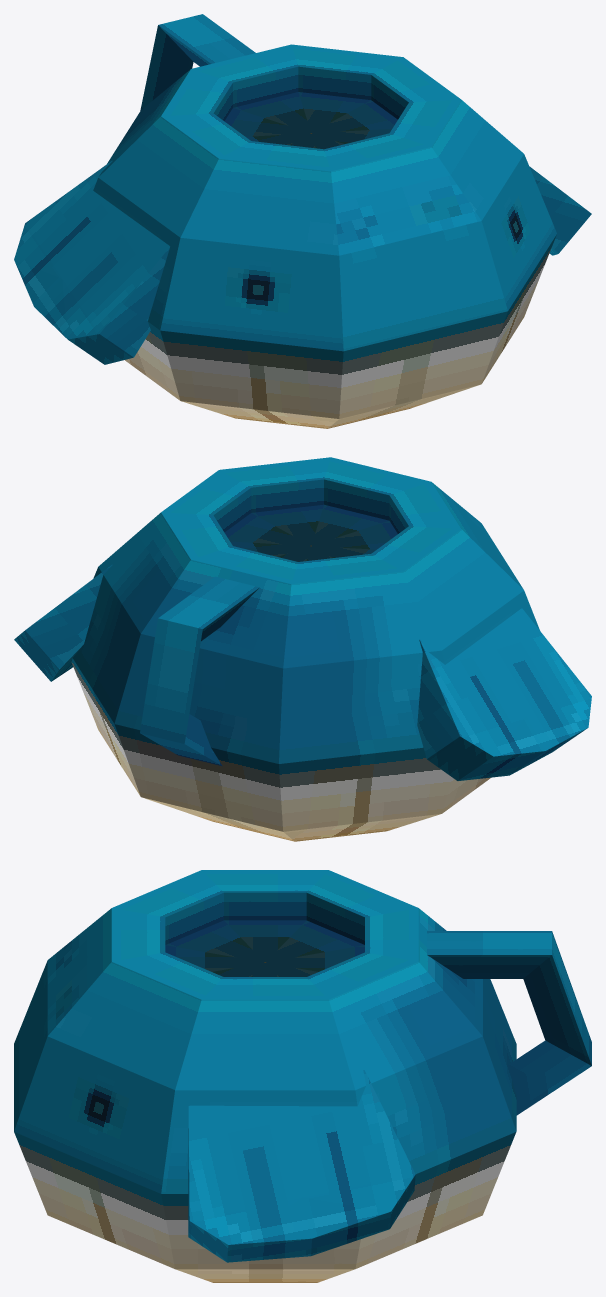
File: Wailmer Pail.obj
The picture shows the model from 3 angles, top to bottom: view 1: azimuth 30°, elevation 25°; view 2: azimuth 150°, elevation 25°; view 3: azimuth 270°, elevation 25°; orthographic projection. The views are drawn at different scales.
Visible parts, largest first — view 1: Wailmer_Pail; view 2: Wailmer_Pail; view 3: Wailmer_Pail.
Boxes of the visible parts, x1=… form: Wailmer_Pail: x1=14, y1=14, x2=591, y2=428; Wailmer_Pail: x1=14, y1=457, x2=591, y2=841; Wailmer_Pail: x1=14, y1=870, x2=591, y2=1282.
Size of the model in its own units: 0.3776 by 0.1938 by 0.3309.
